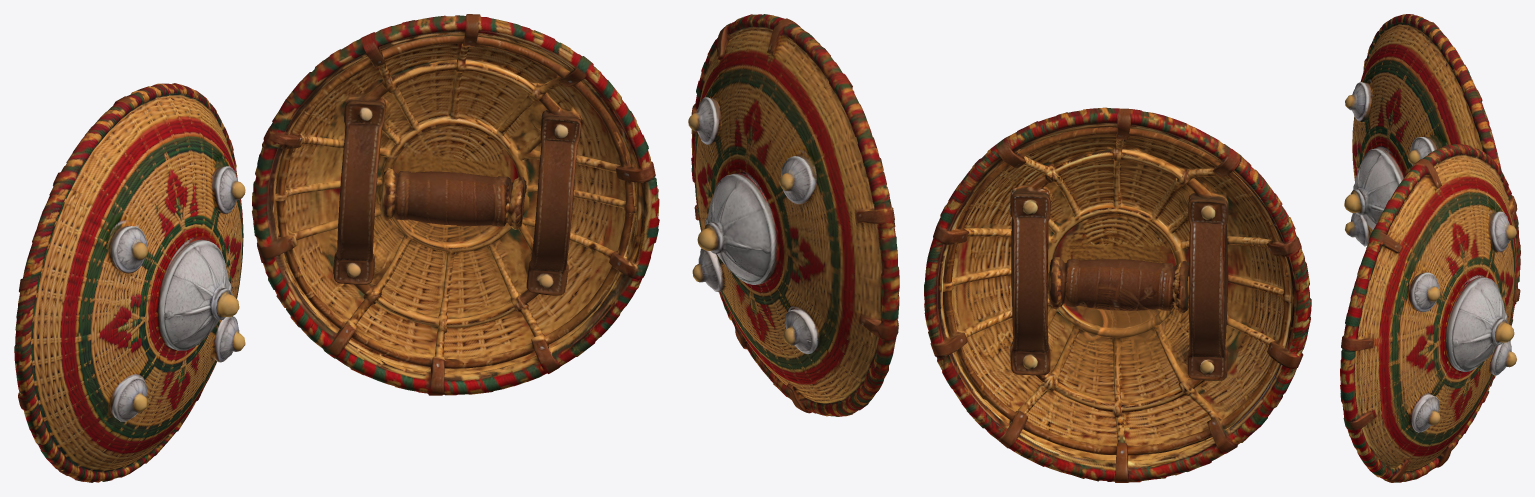
Rendered from Hasır örgülü Osmanlı kalkanı.glb.
3 renders of one model, left to right at view 1: azimuth 30°, elevation 25°; view 2: azimuth 150°, elevation 25°; view 3: azimuth 270°, elevation 25°, orthographic. The views are drawn at different scales.
Parts seen in each view (by area): view 1: tripo_node_6bd89a1d-a12c-4072-b962-aa0769e15a92; view 2: tripo_node_6bd89a1d-a12c-4072-b962-aa0769e15a92; view 3: tripo_node_6bd89a1d-a12c-4072-b962-aa0769e15a92.
Part boxes in pixels (x1,y1,x2,y2): tripo_node_6bd89a1d-a12c-4072-b962-aa0769e15a92: (14, 14, 659, 482); tripo_node_6bd89a1d-a12c-4072-b962-aa0769e15a92: (688, 14, 1311, 482); tripo_node_6bd89a1d-a12c-4072-b962-aa0769e15a92: (1340, 14, 1520, 482).
Bounding box in the file's own units: 0.9798 × 0.5622 × 0.2911.
1 material, 1 textured.
